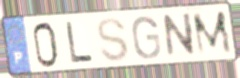0: (31, 20, 60, 69)
G: (130, 15, 163, 62)
L: (65, 20, 95, 66)
M: (190, 9, 235, 58)
N: (161, 11, 198, 60)
S: (96, 16, 131, 64)
